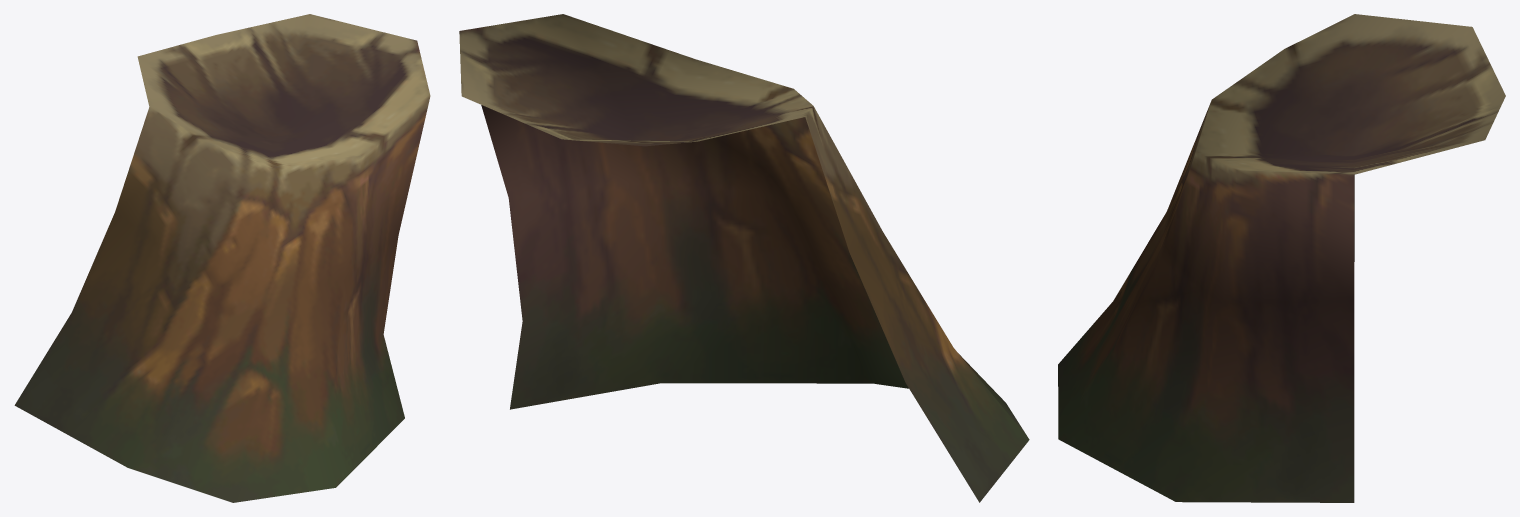
The model's file is yw_shanlin_brokentree_001.FBX.
3 renders of one model, left to right at view 1: azimuth 30°, elevation 25°; view 2: azimuth 150°, elevation 25°; view 3: azimuth 270°, elevation 25°, orthographic. The views are drawn at different scales.
Visible parts, largest first — view 1: yw_shanlin_ brokentree_001; view 2: yw_shanlin_ brokentree_001; view 3: yw_shanlin_ brokentree_001.
Boxes of the visible parts, x1,y1,x2,y2 form: yw_shanlin_ brokentree_001: [14, 14, 430, 502]; yw_shanlin_ brokentree_001: [459, 14, 1029, 502]; yw_shanlin_ brokentree_001: [1058, 14, 1505, 502].
Bounding box in the file's own units: 174 × 135 × 131.
